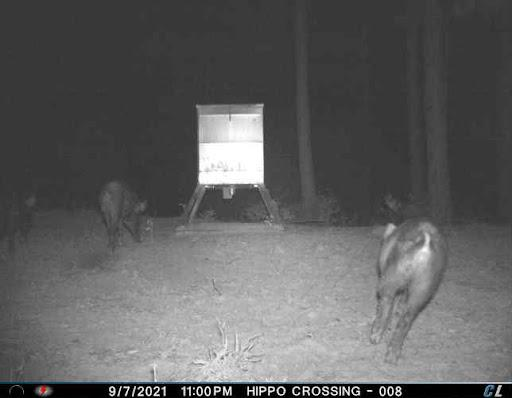Hog: (369, 216, 451, 363), (95, 174, 153, 254), (0, 176, 43, 269)
